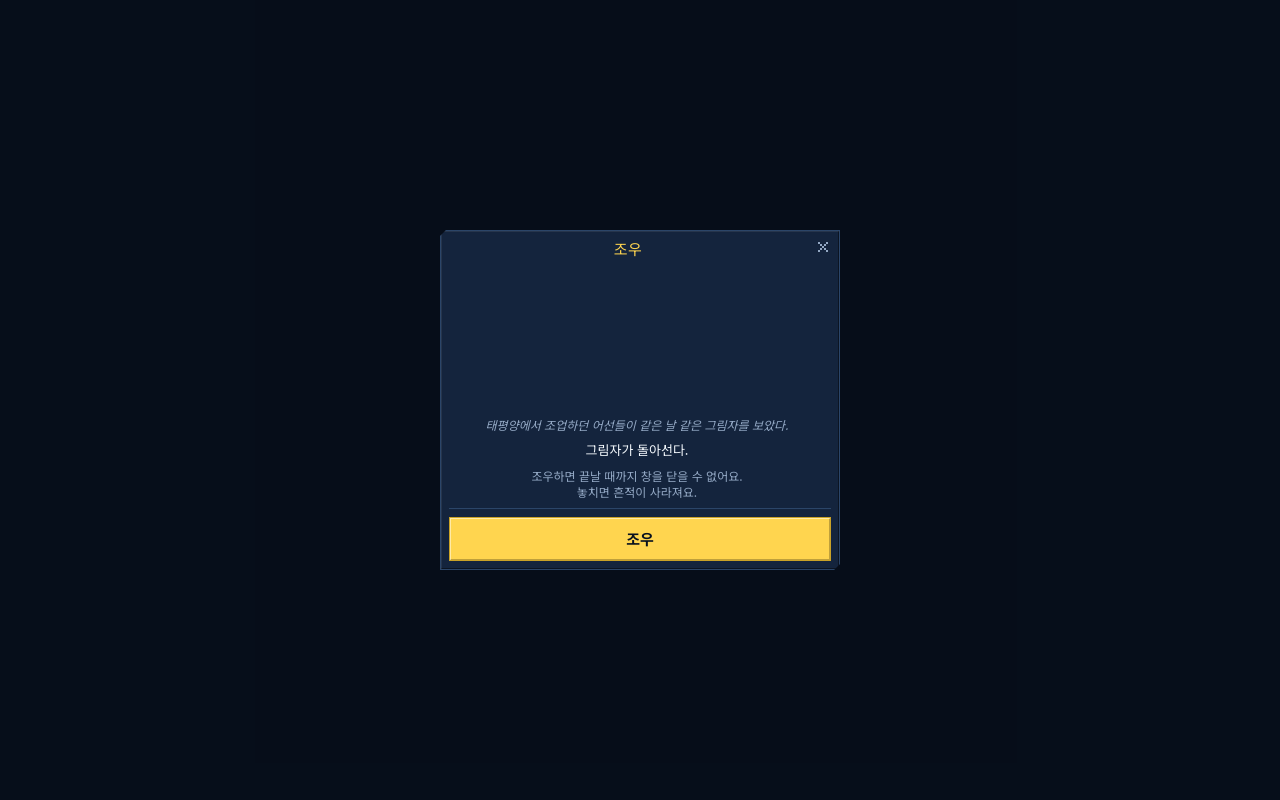
Test: EncounterModal › 닫을 수 없는 창 계약 › 놓쳐서 탈락하면 다시 닫을 수 있는 창 층이 되고 바깥 누름이 닫는다
Later steps or results of the test are not shown.
Click the button "조우" at {"x": 640, "y": 539}, box [449, 517, 831, 561]
Wait 8000 ms
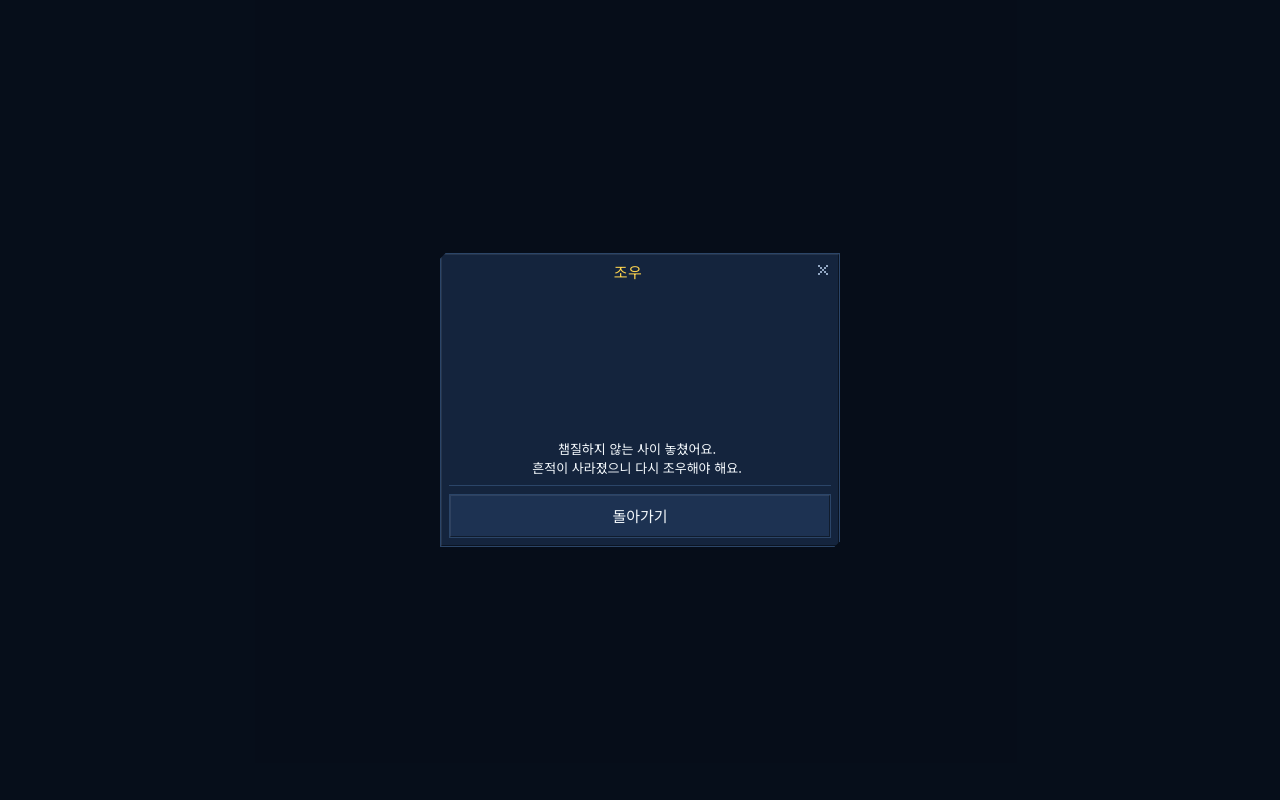
Now the button "돌아가기" is shown, box [449, 494, 831, 538]
